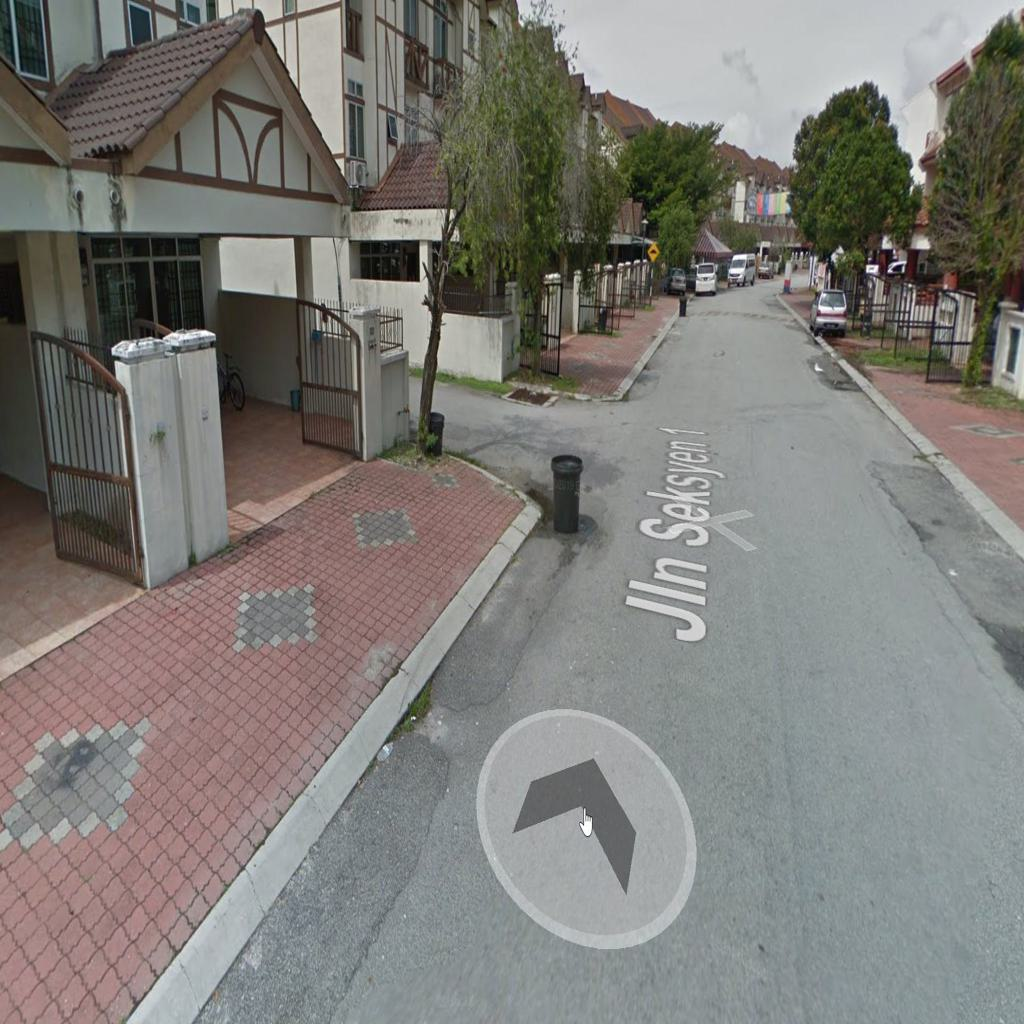Junction: (412, 342, 677, 548)
